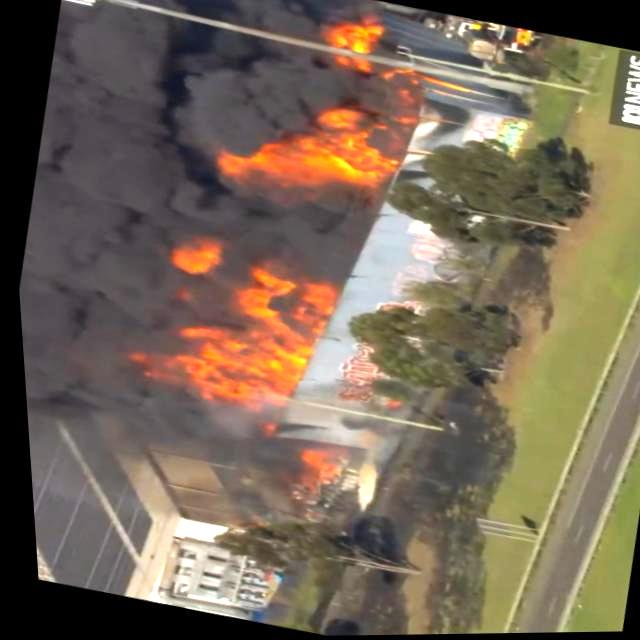fire: (126, 238, 334, 430), (240, 90, 400, 214), (318, 10, 389, 74)
